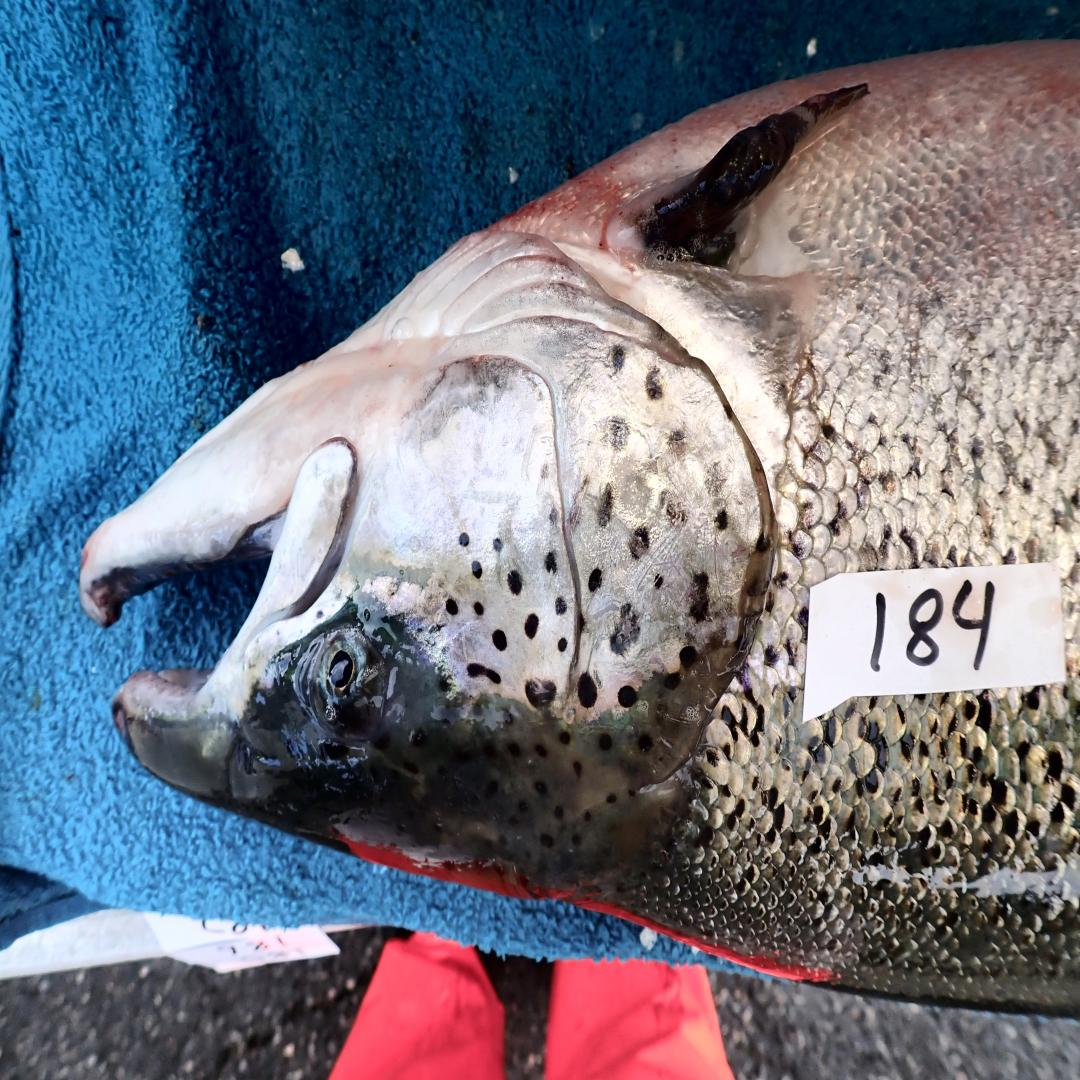spot: (610, 602, 639, 655), (691, 567, 711, 625), (569, 474, 589, 528), (525, 681, 557, 709), (597, 482, 615, 528), (705, 464, 727, 498), (663, 490, 685, 522), (578, 672, 597, 709), (610, 415, 629, 450), (466, 664, 500, 683), (629, 526, 651, 555), (645, 368, 662, 399), (618, 686, 637, 709), (670, 428, 686, 455), (612, 344, 626, 373), (679, 647, 698, 667), (508, 571, 523, 593), (525, 613, 538, 638), (491, 630, 506, 650), (544, 551, 557, 574), (664, 672, 681, 689), (589, 568, 601, 591), (715, 509, 728, 529), (438, 674, 452, 692), (470, 560, 483, 579), (555, 596, 567, 616), (445, 599, 458, 616), (539, 461, 552, 478), (549, 506, 561, 524), (757, 535, 770, 551), (426, 623, 446, 633), (460, 532, 470, 546), (557, 638, 567, 652), (475, 602, 483, 616), (494, 537, 502, 551), (654, 574, 662, 588), (928, 70, 932, 79)
